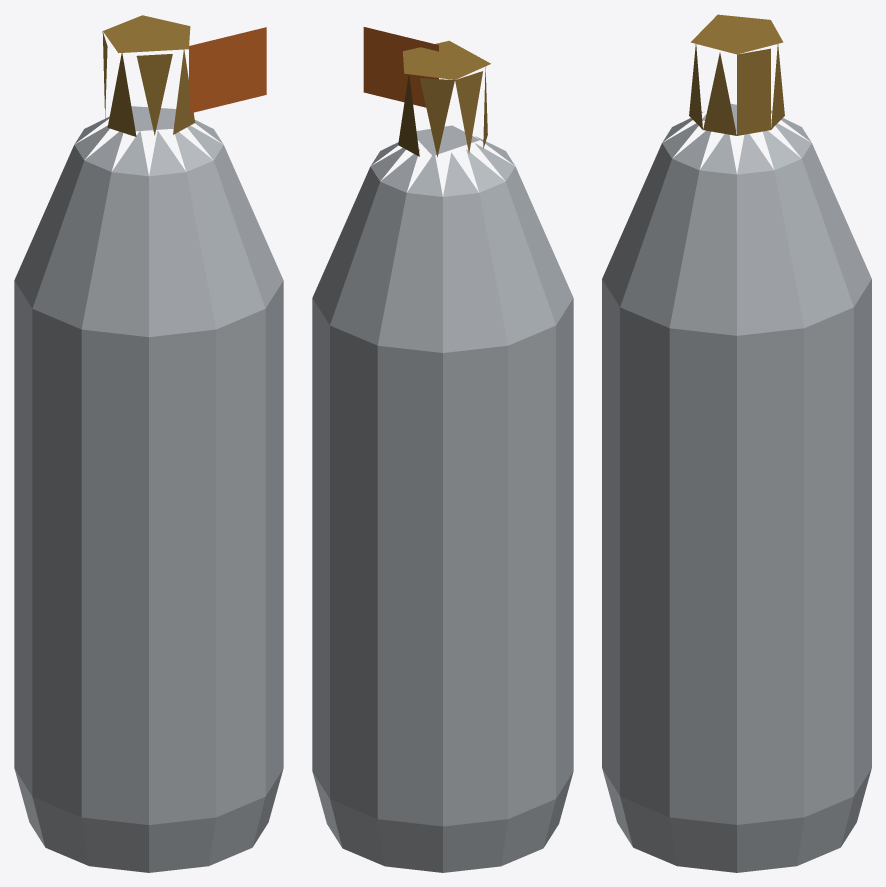
The model's file is oxygen-tank.lod.glb.
3 renders of one model, left to right at view 1: azimuth 30°, elevation 25°; view 2: azimuth 150°, elevation 25°; view 3: azimuth 270°, elevation 25°, orthographic. The views are drawn at different scales.
Parts seen in each view (by area): view 1: m; view 2: m; view 3: m.
Boxes of the visible parts, x1,y1,x2,y2 form: m: (14,15,283,872); m: (312,27,573,872); m: (602,14,871,872).
Size of the model in its own units: 0.0923 by 0.3 by 0.0923.
